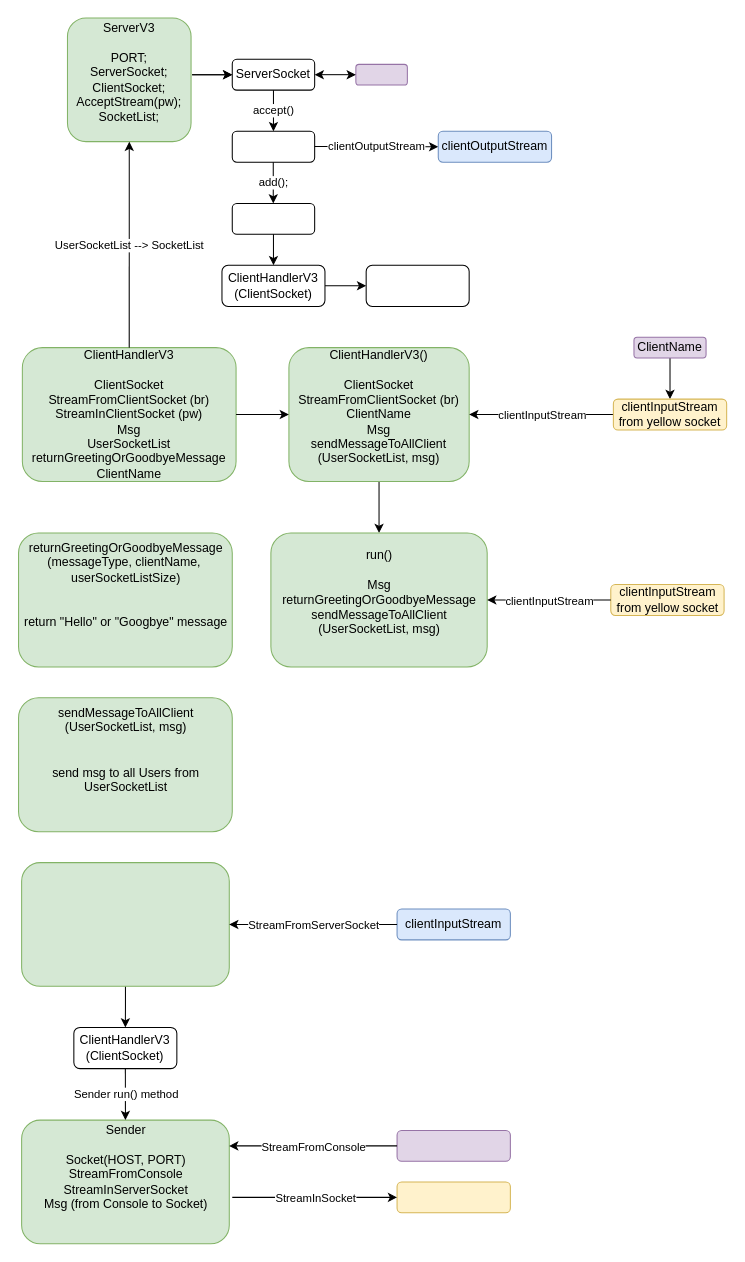
The diagram is 745 pixels wide and 1262 high, and some of its shapes have lost their labels. The shapes that lost their labels are listed below. From the top down, each one's centre as x and y in pixels, then its label:
the point at 381,74: PORT
the point at 273,146: ClientSocket
the point at 273,218: SocketList
the point at 417,285: ClientHandlerV3 run() method
the point at 125,924: ClientV3 Scanner Socket(HOST, PORT) StreamFromServerSocket(br) Sender(socket)
the point at 453,1145: Console
the point at 453,1197: Socket
